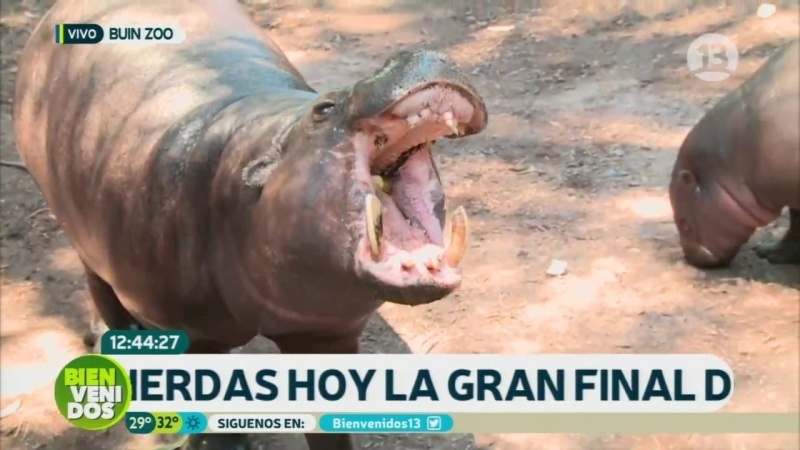hipopotamo: (13, 1, 494, 354), (640, 30, 800, 277)
